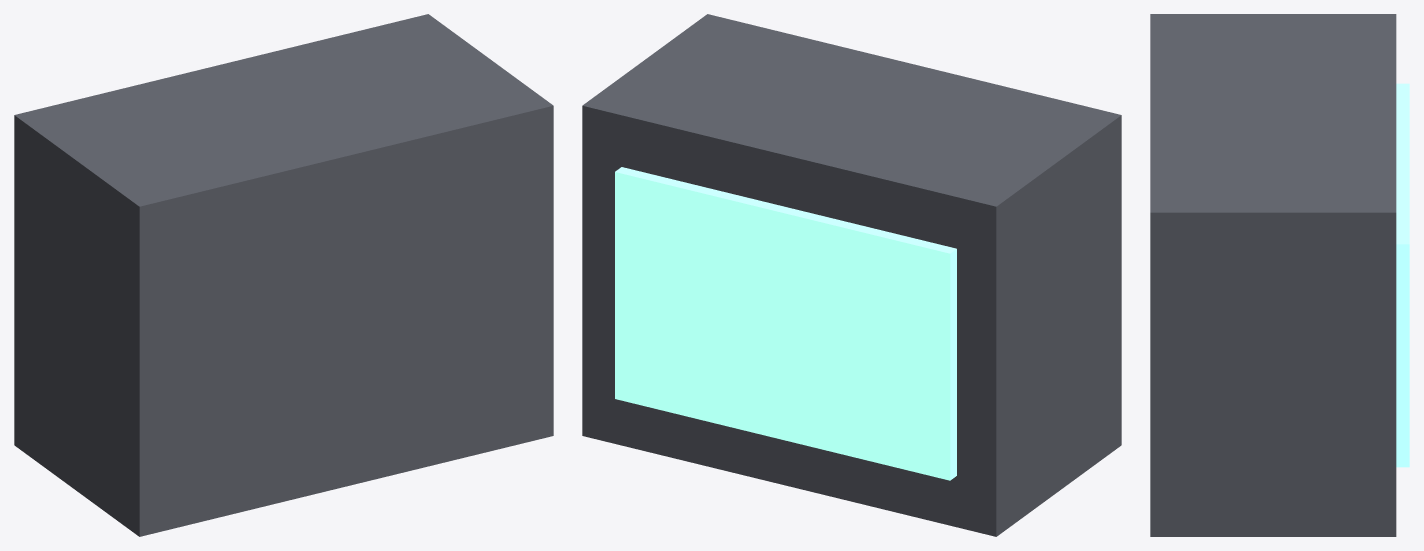
Rendered from prop_register_monitor.gltf.
The picture shows the model from 3 angles, left to right: view 1: azimuth 30°, elevation 25°; view 2: azimuth 150°, elevation 25°; view 3: azimuth 270°, elevation 25°; orthographic projection.
Visible parts, largest first — view 1: TerminalMonitor; view 2: TerminalMonitor, TerminalScreen; view 3: TerminalMonitor, TerminalScreen.
Part boxes in pixels (x1,y1,x2,y2): TerminalMonitor: [14, 14, 553, 536]; TerminalMonitor: [582, 14, 1121, 536]; TerminalScreen: [615, 167, 956, 480]; TerminalMonitor: [1150, 14, 1396, 536]; TerminalScreen: [1396, 83, 1409, 467].
Bounding box in the file's own units: 0.42 × 0.32 × 0.232.
